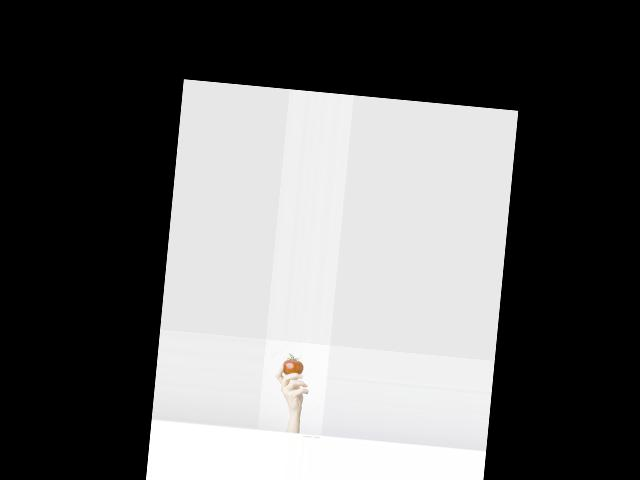tomato: (282, 352, 304, 375)
